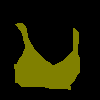reggiseno: (14, 22, 80, 90)
